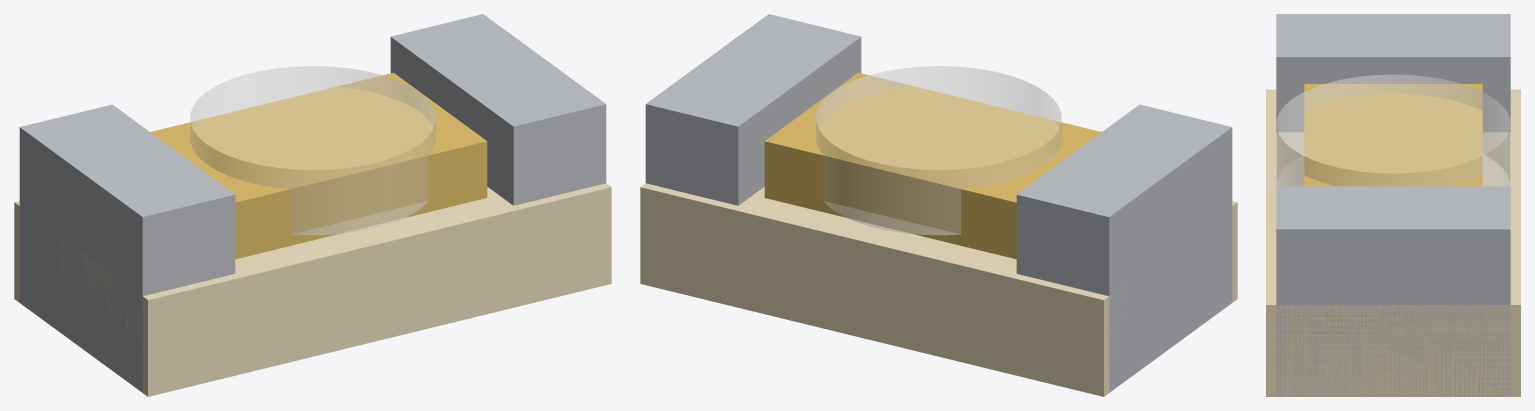
The model's file is led-0603.glb.
The picture shows the model from 3 angles, left to right: view 1: azimuth 30°, elevation 25°; view 2: azimuth 150°, elevation 25°; view 3: azimuth 270°, elevation 25°; orthographic projection. The views are drawn at different scales.
Parts seen in each view (by area): view 1: object 4, object 1, body, object 3; view 2: object 4, object 1, body, object 3; view 3: object 4, object 1, object 3, body.
Boxes of the visible parts, box(x1,y1,x2,y2) form: object 4: box(19, 14, 606, 392); object 1: box(14, 183, 611, 396); body: box(150, 72, 487, 259); object 3: box(190, 66, 435, 235); object 4: box(645, 14, 1232, 392); object 1: box(640, 183, 1237, 396); body: box(764, 72, 1101, 259); object 3: box(816, 66, 1061, 235); object 4: box(1276, 14, 1510, 396); object 1: box(1266, 89, 1520, 396); object 3: box(1276, 74, 1510, 186); body: box(1304, 84, 1482, 186).
Bounding box in the file's own units: 0.0016 × 0.00058 × 0.0008.
